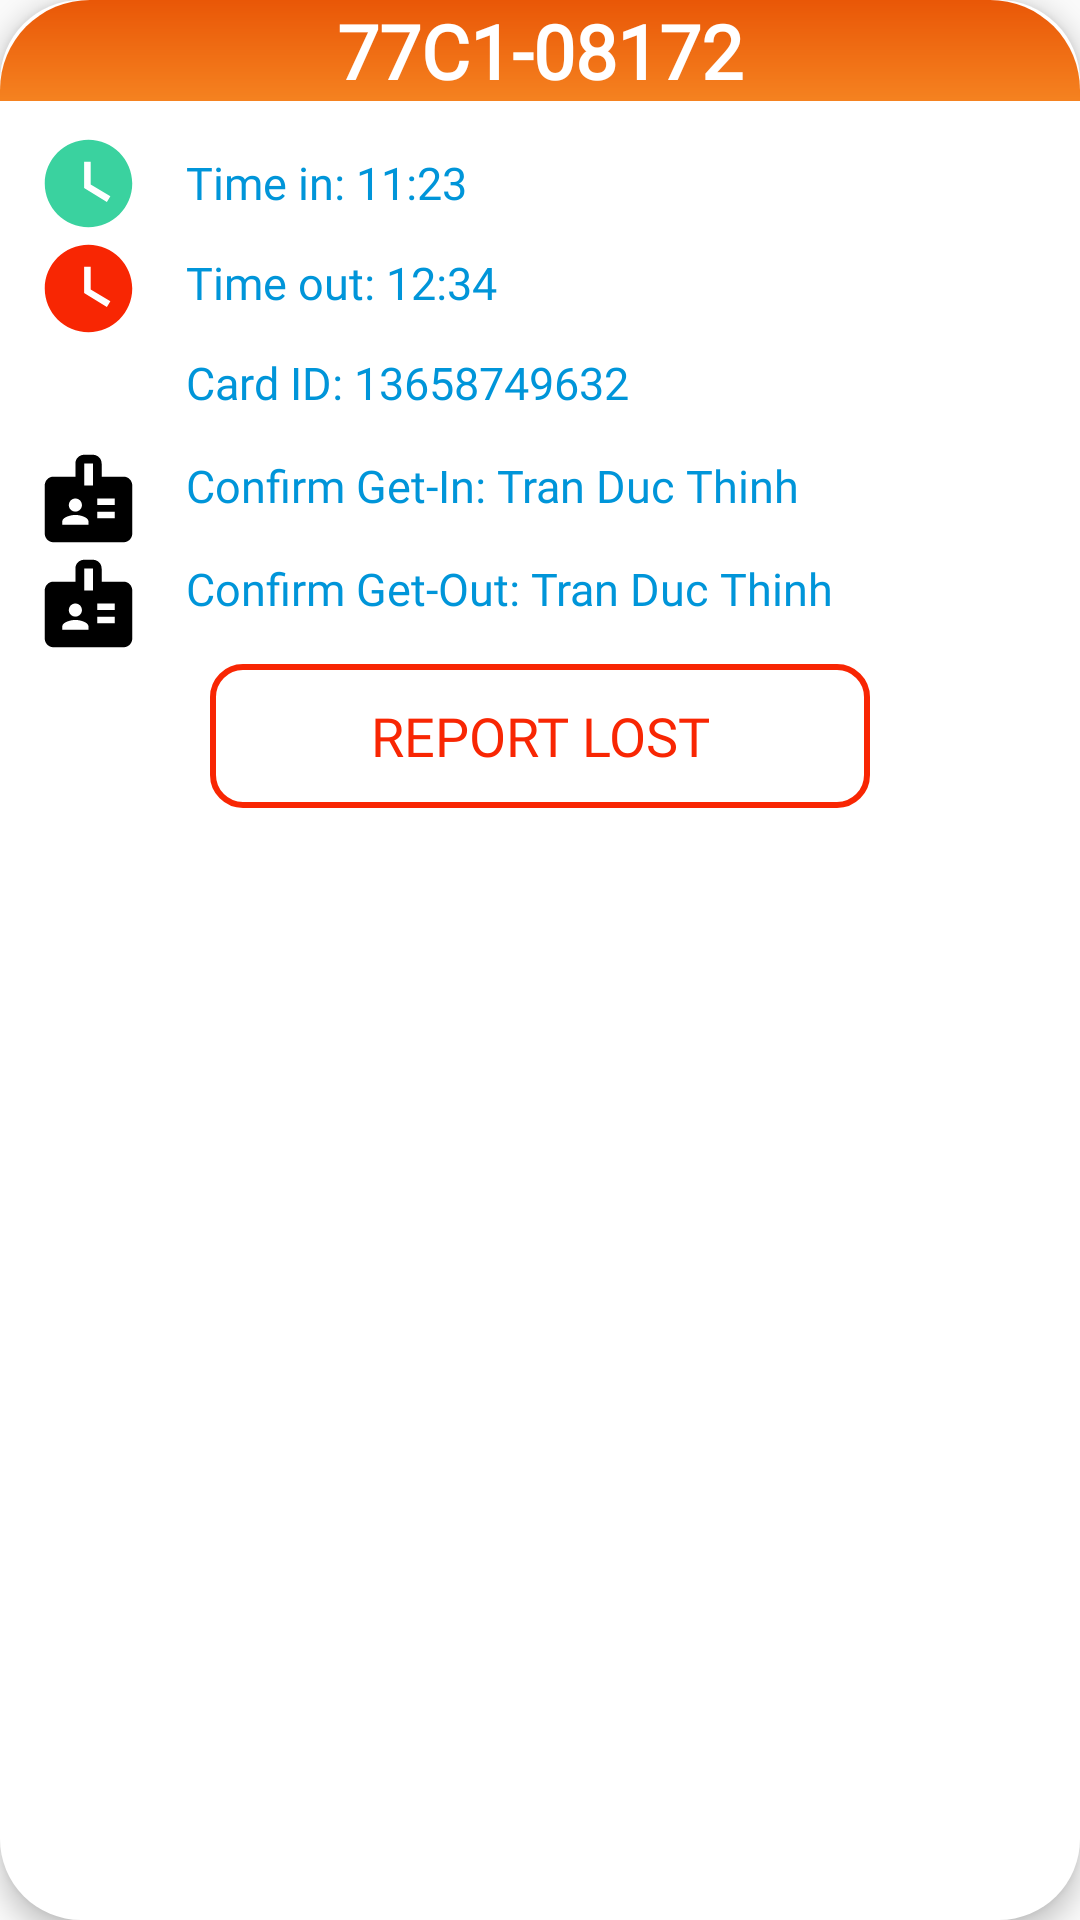

Named icons in this screenshot (1080 x 1920) and their centers, (x,y):
badge: (88,498), (88,603)
watch: (88,183), (88,288)
